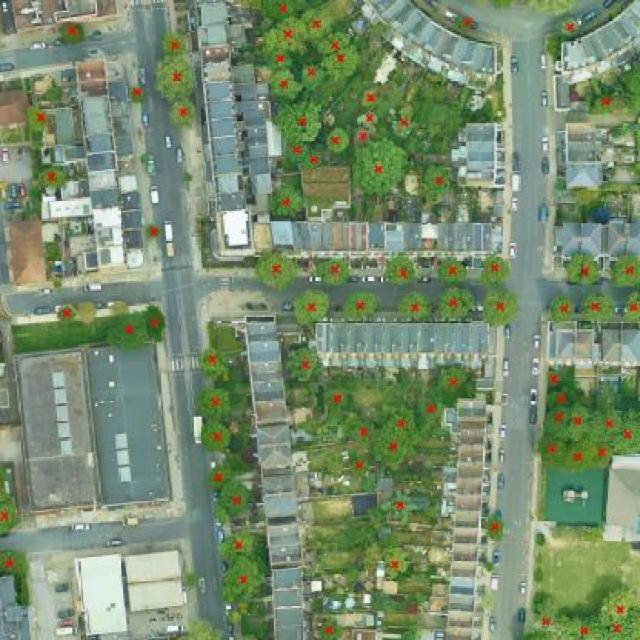tree: (349, 134, 417, 201), (214, 552, 271, 612), (270, 98, 330, 147), (151, 56, 203, 109), (413, 102, 470, 146), (373, 486, 427, 531), (99, 313, 155, 356), (251, 250, 303, 296), (262, 14, 313, 60), (212, 525, 266, 568), (262, 180, 313, 225), (278, 345, 331, 388), (316, 42, 367, 86), (212, 476, 257, 524), (430, 360, 476, 405), (291, 285, 335, 330), (478, 289, 524, 332), (574, 286, 618, 328), (194, 385, 237, 427), (262, 67, 307, 107), (561, 247, 602, 290), (381, 408, 427, 446), (374, 432, 415, 474), (436, 284, 479, 324), (414, 392, 452, 437), (313, 253, 356, 292), (139, 301, 173, 350), (298, 6, 339, 46), (528, 589, 560, 640), (0, 484, 28, 541), (173, 612, 230, 640), (373, 544, 415, 582), (30, 161, 78, 194), (338, 288, 382, 324), (607, 410, 640, 458), (606, 245, 640, 291), (418, 162, 459, 200), (378, 252, 420, 289), (314, 381, 358, 416), (0, 543, 34, 588), (341, 416, 382, 453), (562, 439, 598, 481), (388, 102, 423, 145), (562, 400, 593, 448), (194, 345, 234, 382), (197, 418, 234, 458), (475, 252, 515, 288), (395, 291, 436, 326), (254, 0, 305, 28), (312, 30, 361, 59), (597, 607, 640, 640), (295, 58, 333, 95), (203, 461, 240, 498), (542, 291, 581, 326), (536, 435, 570, 475), (560, 609, 603, 640), (20, 102, 57, 138), (432, 252, 471, 286), (601, 586, 640, 620), (520, 0, 586, 20), (618, 59, 640, 119), (259, 44, 299, 76), (322, 123, 356, 160), (168, 96, 202, 132), (308, 612, 352, 639), (615, 285, 640, 332), (479, 512, 513, 546), (587, 86, 622, 119), (593, 404, 624, 441), (537, 398, 566, 437), (156, 31, 193, 60), (310, 612, 348, 640), (540, 365, 572, 396), (344, 453, 378, 482), (587, 438, 615, 472), (351, 108, 387, 134), (354, 83, 386, 112), (55, 20, 88, 48), (345, 124, 383, 148), (540, 389, 577, 413), (52, 302, 81, 330), (557, 14, 586, 40), (452, 11, 479, 38), (123, 82, 151, 108), (74, 301, 101, 327), (108, 298, 132, 321), (142, 221, 163, 247), (489, 0, 516, 15)
